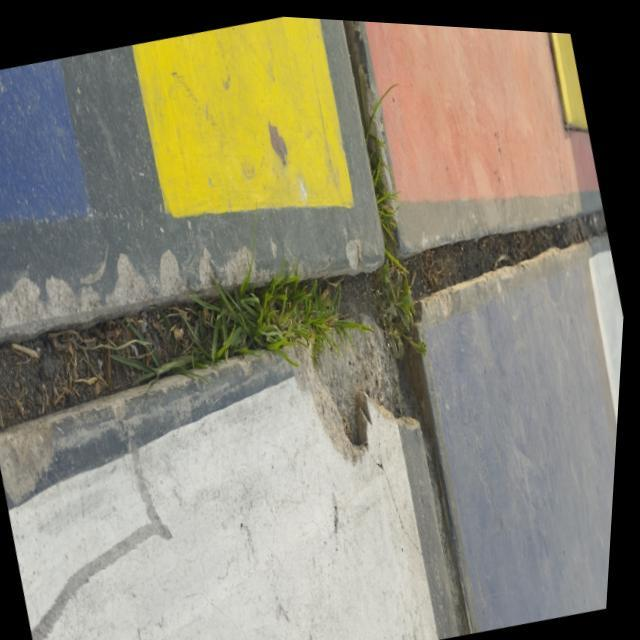hole: (276, 261, 427, 480)
